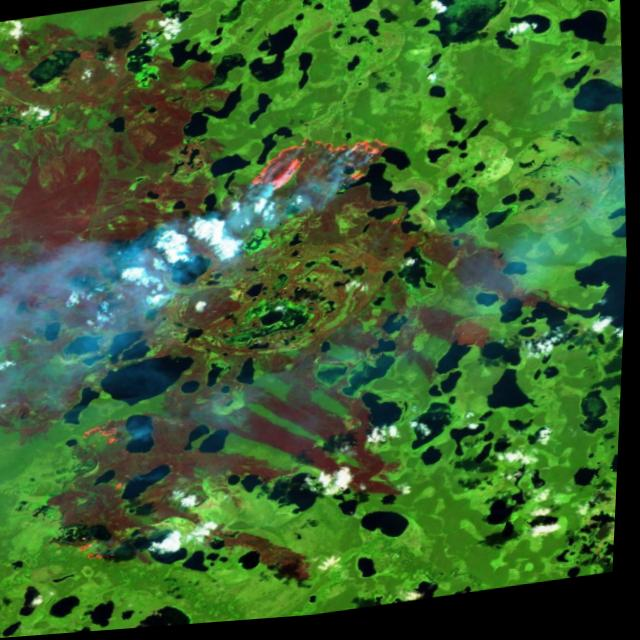fire: (239, 121, 403, 220), (76, 410, 140, 471)
